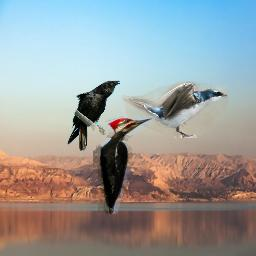Crow: (67, 80, 120, 151)
Swallow: (122, 81, 228, 138)
Woodpecker: (93, 116, 156, 214)
